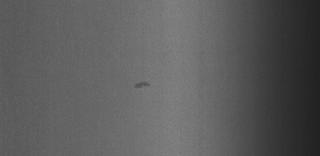oil spot: (132, 76, 160, 94)
